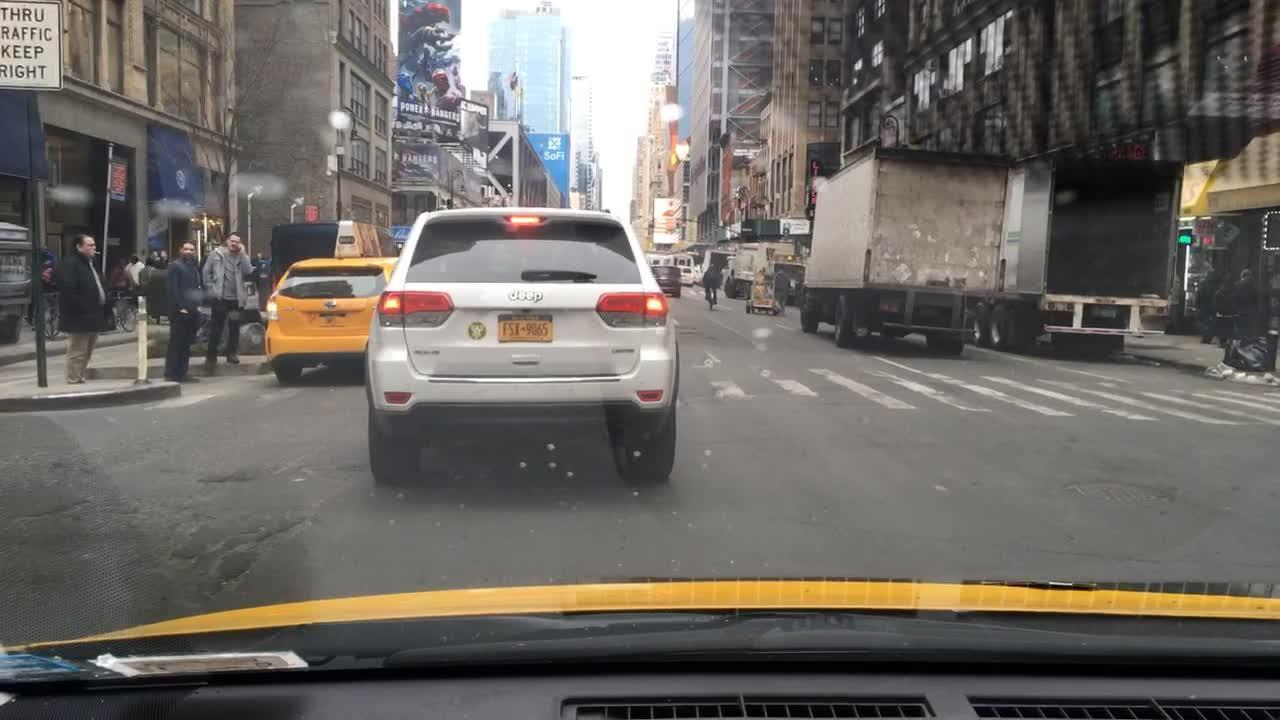jeep: (505, 284, 547, 308)
